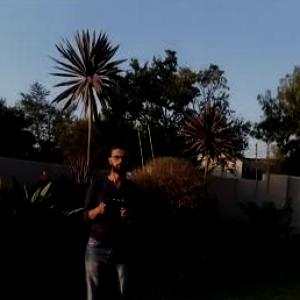follow: (77, 137, 145, 299)
